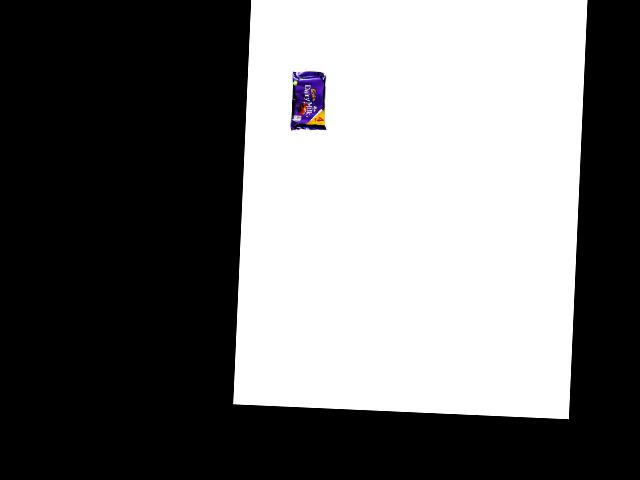chocolate: (285, 68, 328, 138)
